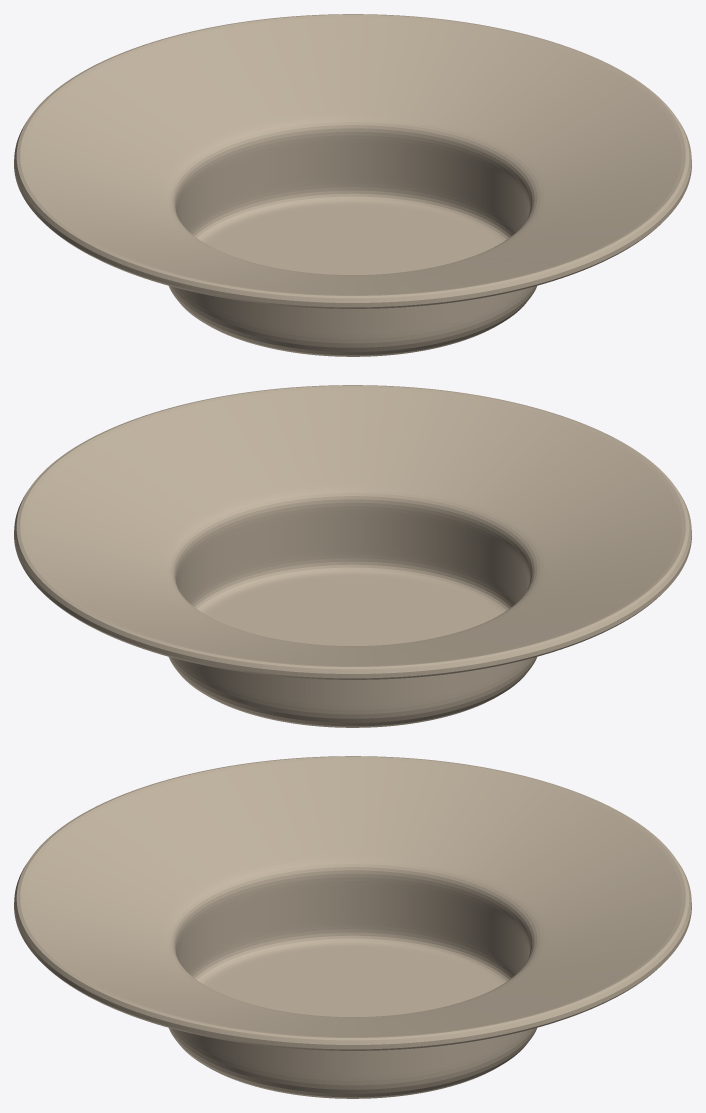
The model's file is 3dcodebench_Plate_seed0.glb.
3 views of the same model, one above another, from view 1: azimuth 30°, elevation 25°; view 2: azimuth 150°, elevation 25°; view 3: azimuth 270°, elevation 25° (orthographic).
Visible parts, largest first — view 1: object; view 2: object; view 3: object.
Boxes of the visible parts, x1=… form: object: x1=14, y1=14, x2=691, y2=356; object: x1=14, y1=385, x2=691, y2=727; object: x1=14, y1=756, x2=691, y2=1098.
Bounding box in the file's own units: 0.2371 × 0.0502 × 0.2371.
